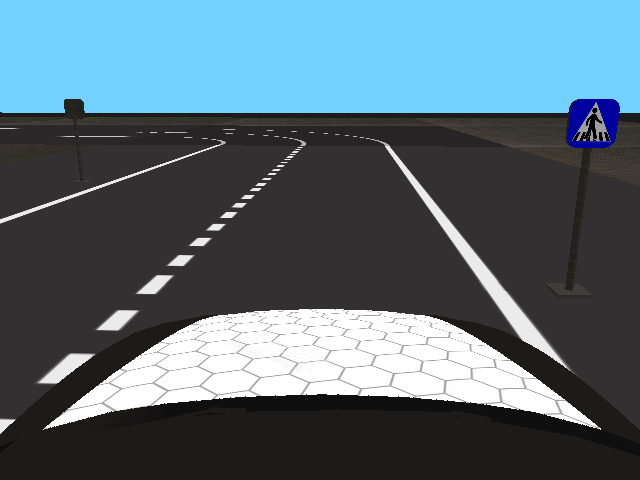pedestrian_cross: (565, 99, 621, 149)
